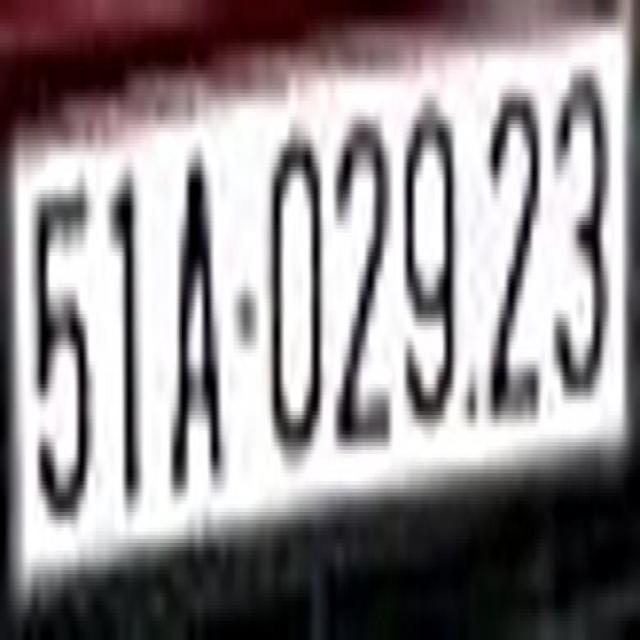0: (264, 101, 323, 485)
1: (111, 128, 147, 496)
2: (479, 74, 546, 422), (332, 105, 396, 442)
3: (552, 54, 606, 414)
5: (30, 171, 93, 516)
9: (403, 89, 457, 442)
A: (163, 116, 222, 496)
